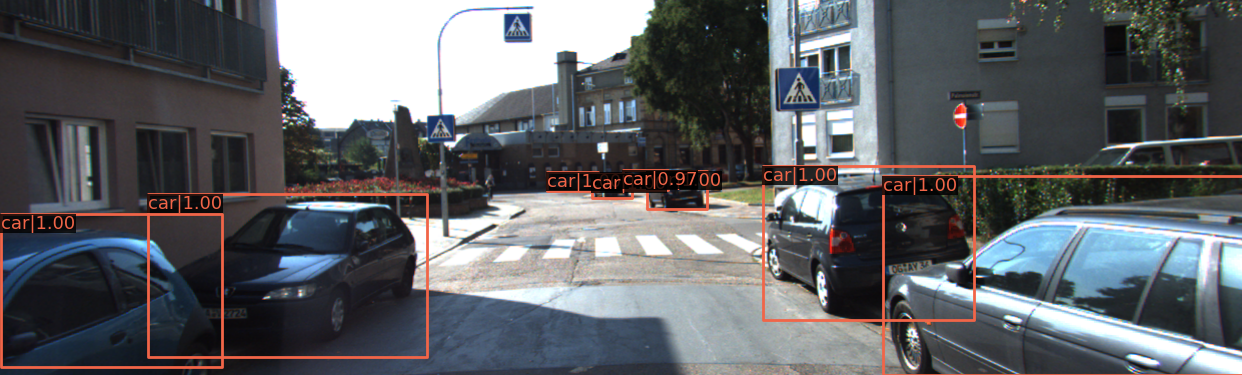car: (870, 187, 1242, 375), (149, 201, 420, 356), (1, 218, 234, 375), (762, 172, 982, 314), (1057, 135, 1242, 230), (773, 169, 893, 219), (648, 173, 703, 210), (592, 177, 631, 200), (550, 174, 595, 193)
